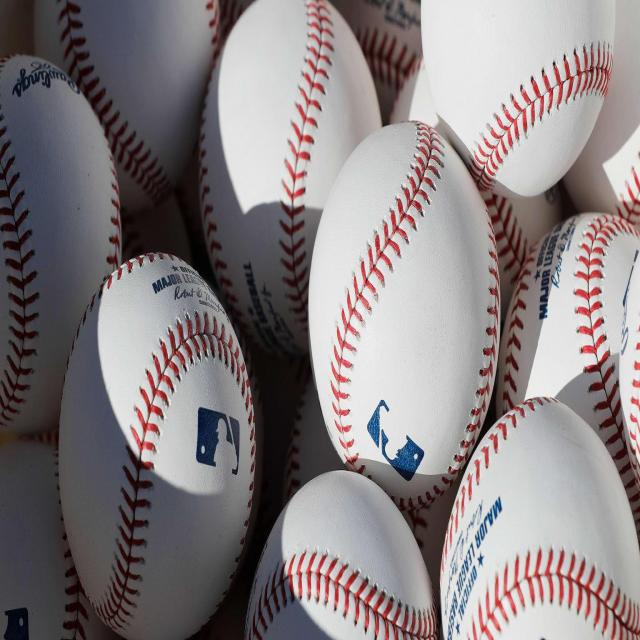baseball: (58, 250, 255, 632), (309, 121, 500, 484), (201, 6, 363, 343), (437, 395, 623, 634), (2, 54, 123, 418), (243, 464, 435, 634), (497, 200, 622, 436)
